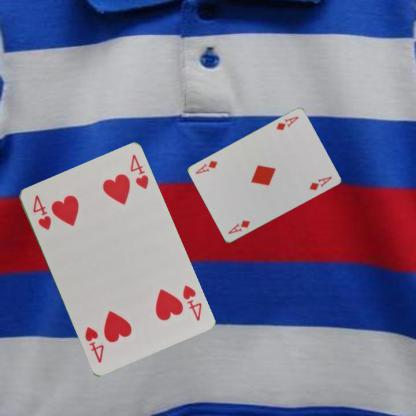4h: (179, 282, 203, 322), (29, 192, 52, 231)
Ad: (273, 114, 300, 132), (226, 218, 252, 236)
